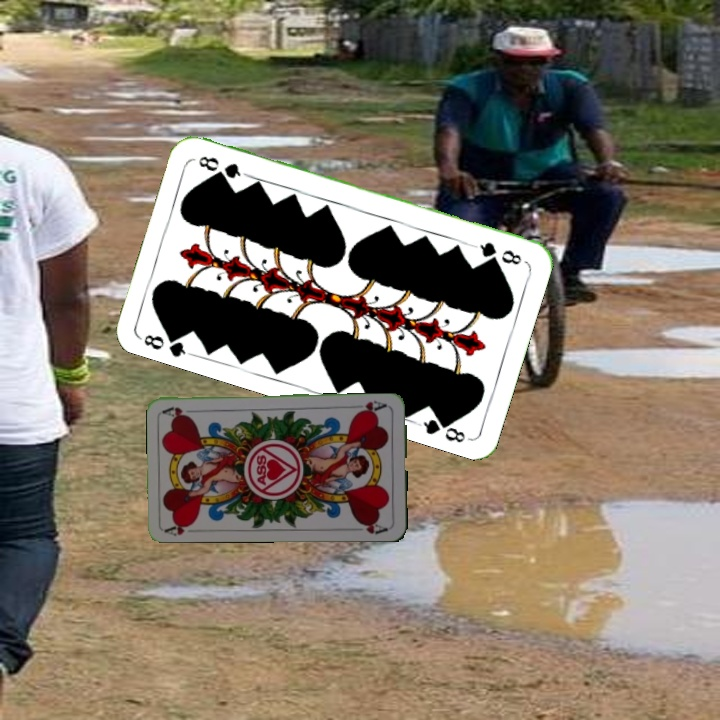G8: (137, 326, 194, 359), (470, 238, 525, 268)
HA: (162, 518, 202, 538), (353, 396, 389, 416)
